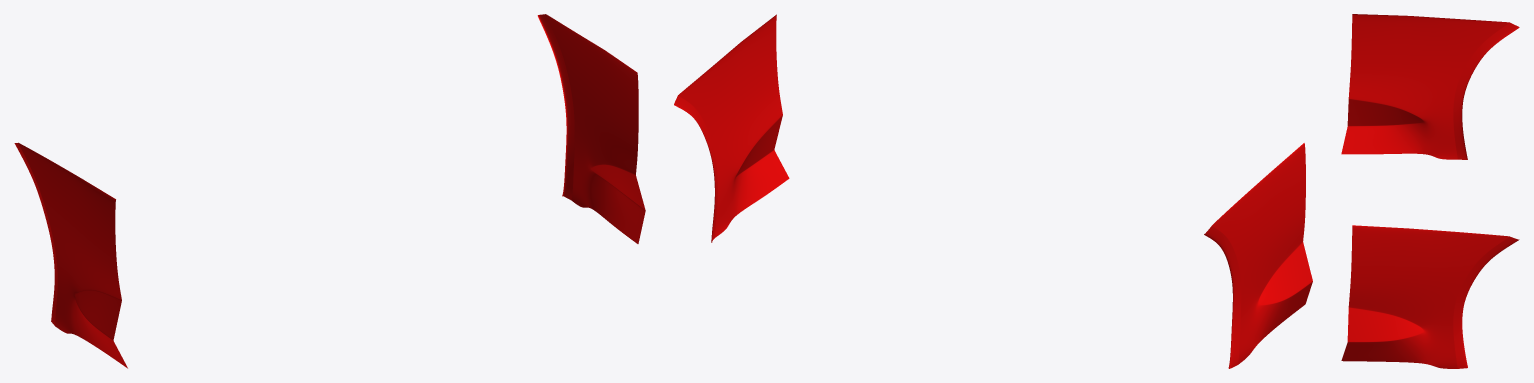
File: MK5frontfenders.glb
3 renders of one model, left to right at view 1: azimuth 30°, elevation 25°; view 2: azimuth 150°, elevation 25°; view 3: azimuth 270°, elevation 25°, orthographic. The views are drawn at different scales.
Parts seen in each view (by area): view 1: Object_33; view 2: Object_33; view 3: Object_33.
Boxes of the visible parts, bbox=[...] form: Object_33: bbox=[14, 14, 645, 368]; Object_33: bbox=[674, 14, 1312, 368]; Object_33: bbox=[1341, 14, 1519, 368].
Size of the model in its own units: 1.26 by 0.3935 by 0.4395.
